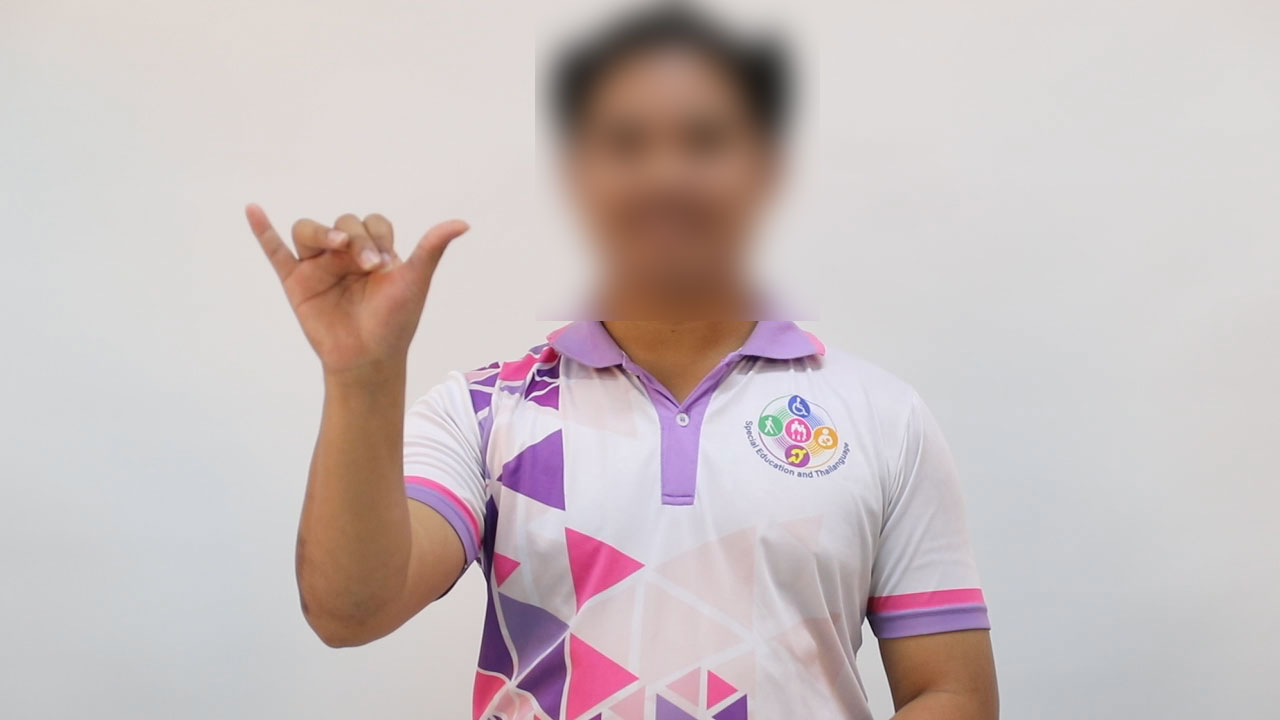yor: (224, 190, 484, 382)
